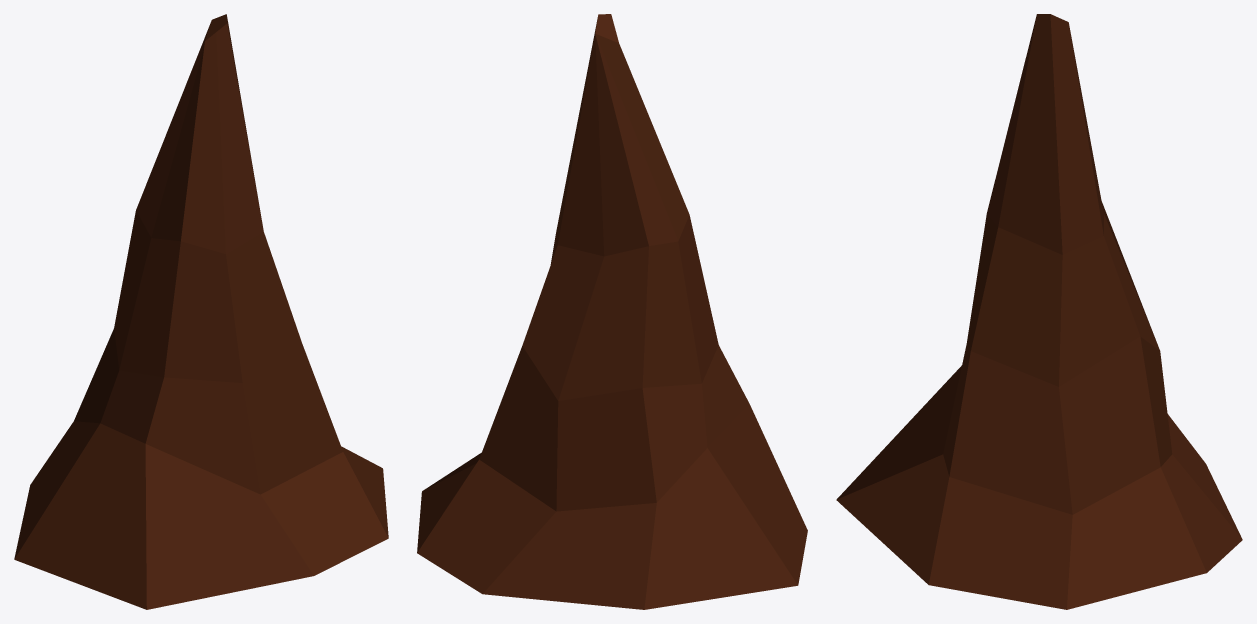
The model's file is Stalactite1.fbx.
3 views of the same model, side by side, from view 1: azimuth 30°, elevation 25°; view 2: azimuth 150°, elevation 25°; view 3: azimuth 270°, elevation 25° (orthographic). The views are drawn at different scales.
Visible parts, largest first — view 1: Cube; view 2: Cube; view 3: Cube.
Boxes of the visible parts, x1,y1,x2,y2 form: Cube: [14, 14, 388, 609]; Cube: [417, 14, 807, 609]; Cube: [836, 14, 1242, 609].
Bounding box in the file's own units: 210 × 285 × 196.
